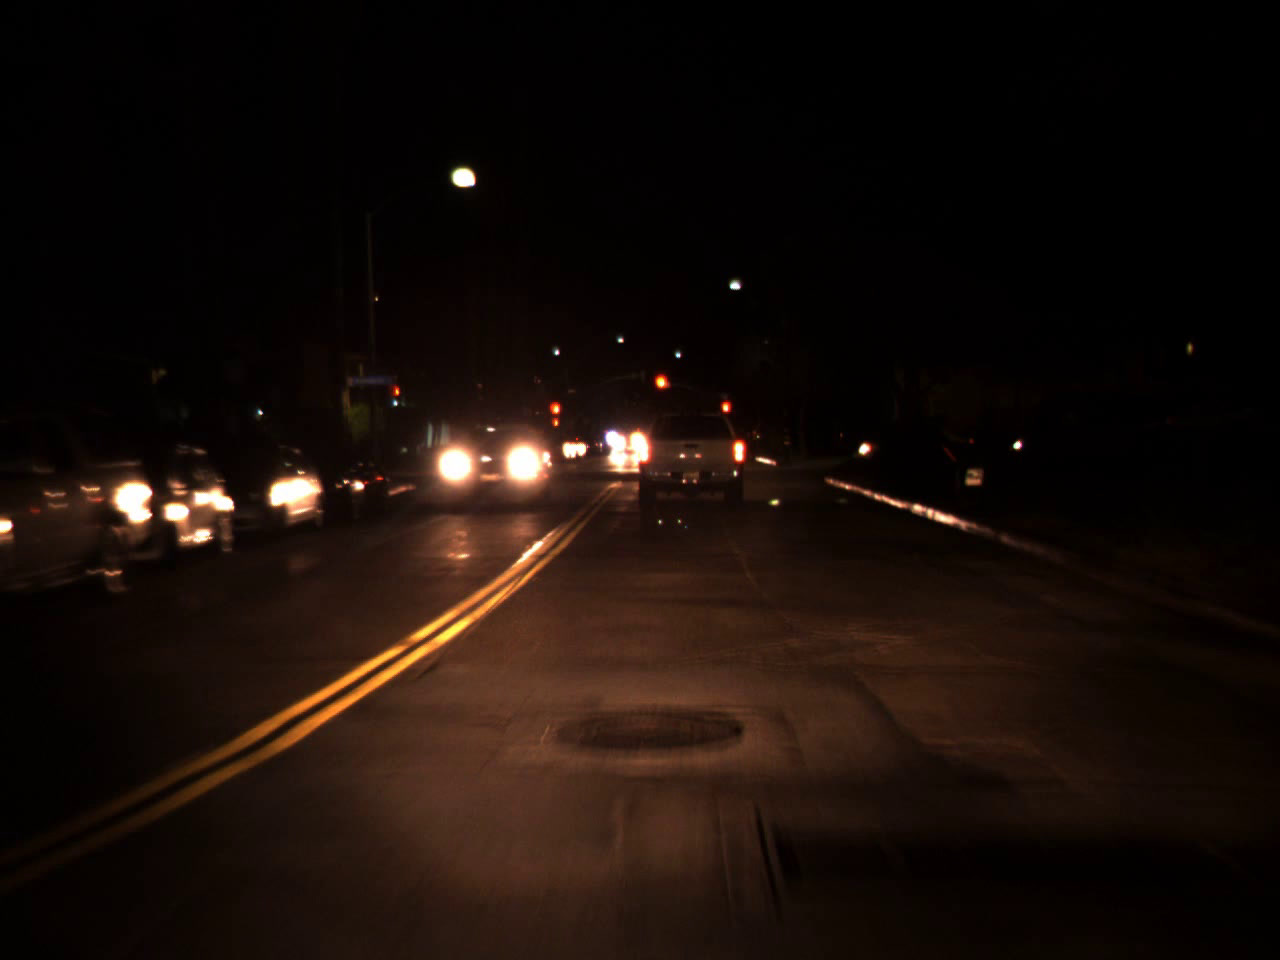stop: (653, 371, 671, 406), (547, 400, 562, 429), (720, 399, 732, 426)
